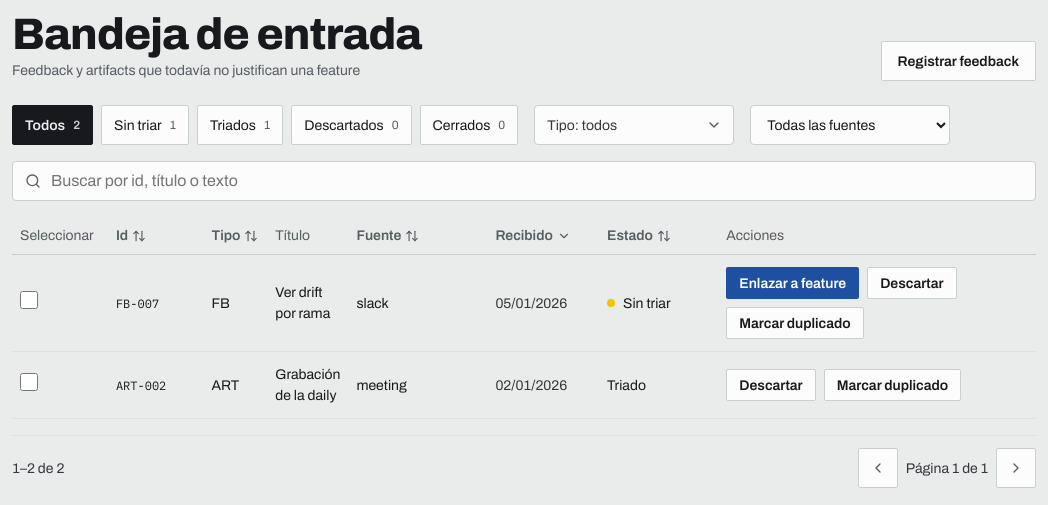
it: Entrada › filters by fuente and writes it to the URL
The width and height of the screenshot is (1048, 505).
Expected: the text "FB-007" is shown, [116, 296, 159, 310]
Select "meeting" in the dropdown named "Fuente": (850, 125) [750, 105, 950, 145]
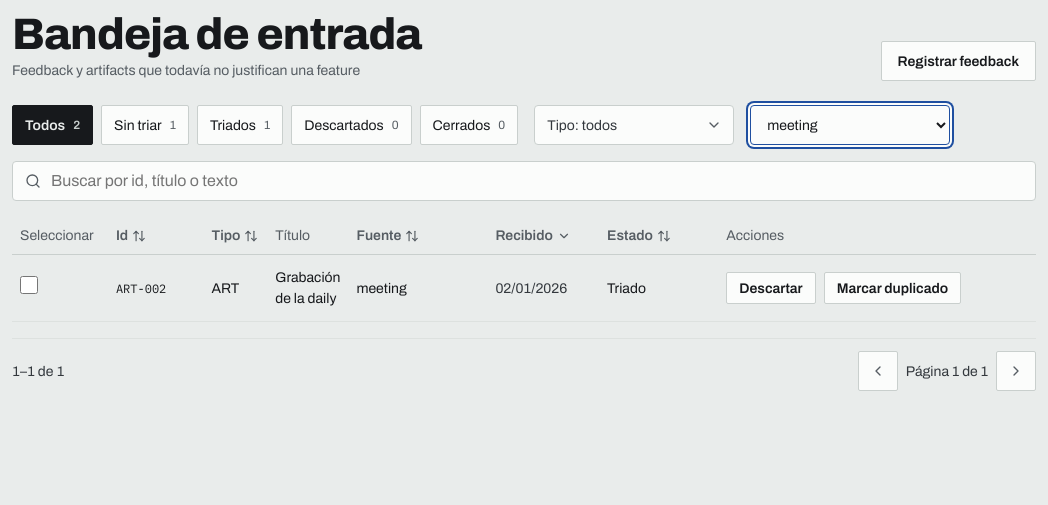
Expected: the text "ART-002" is shown, [116, 280, 166, 296]
Expected: the text "FB-007" is gone
